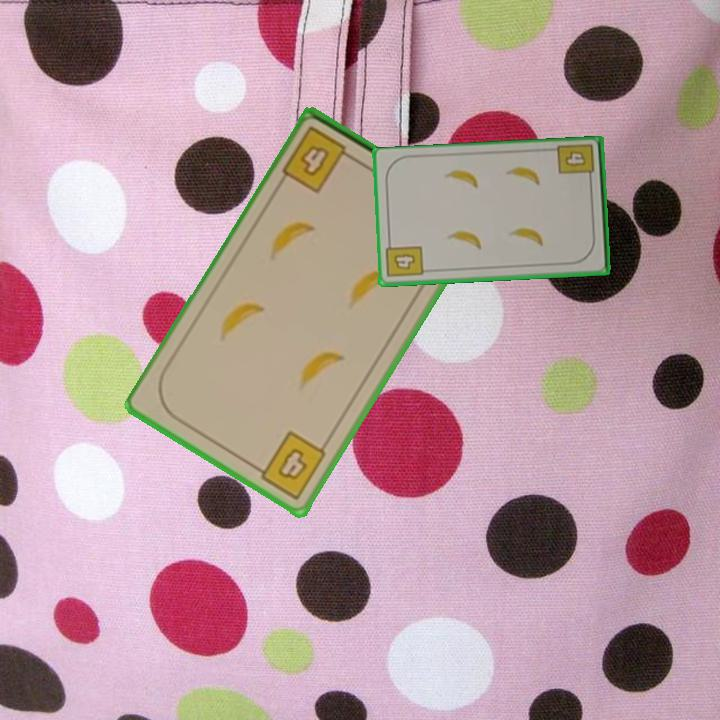4b: (249, 427, 330, 503), (278, 123, 360, 196), (554, 141, 597, 185), (383, 237, 426, 280)
